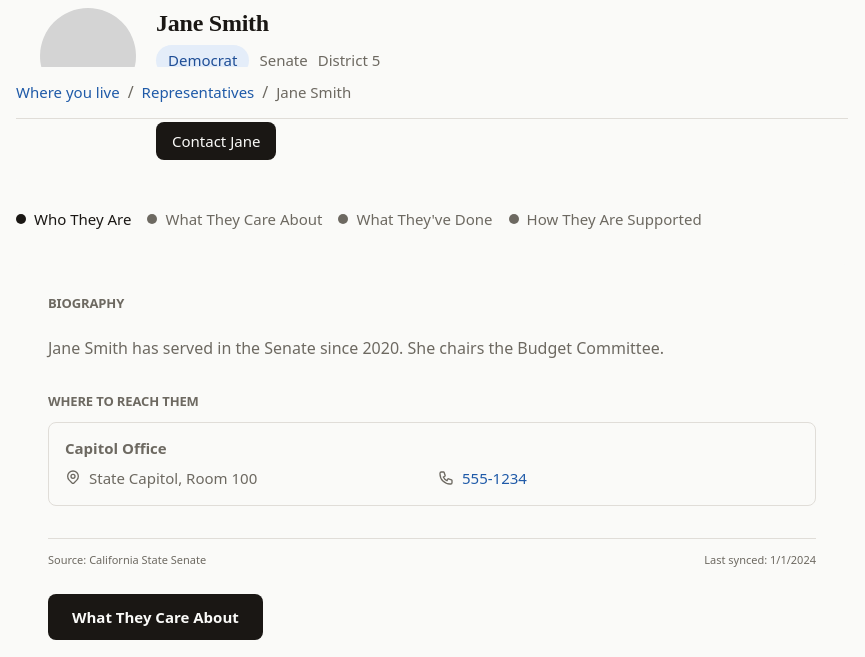
Test: RepresentativeDetailPage › layer navigation › advances to What They Care About (layer 2) via CTA
(page scrolled)
Click the button "What They Care About" below "Source:" at (155, 617), box [48,594,263,640]
(page scrolled)
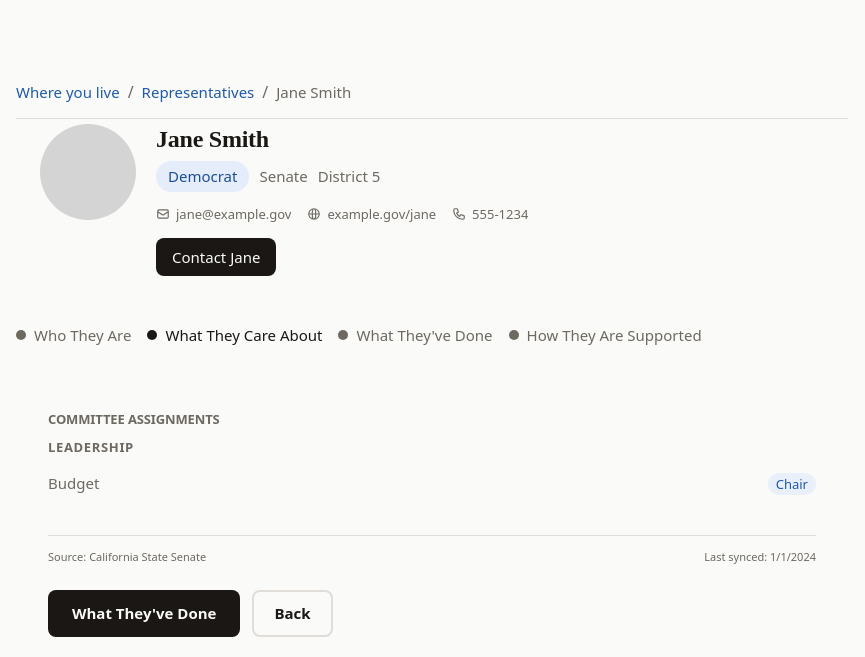
Check: the heading "Committee Assignments" is shown, box [48,410,220,428]
